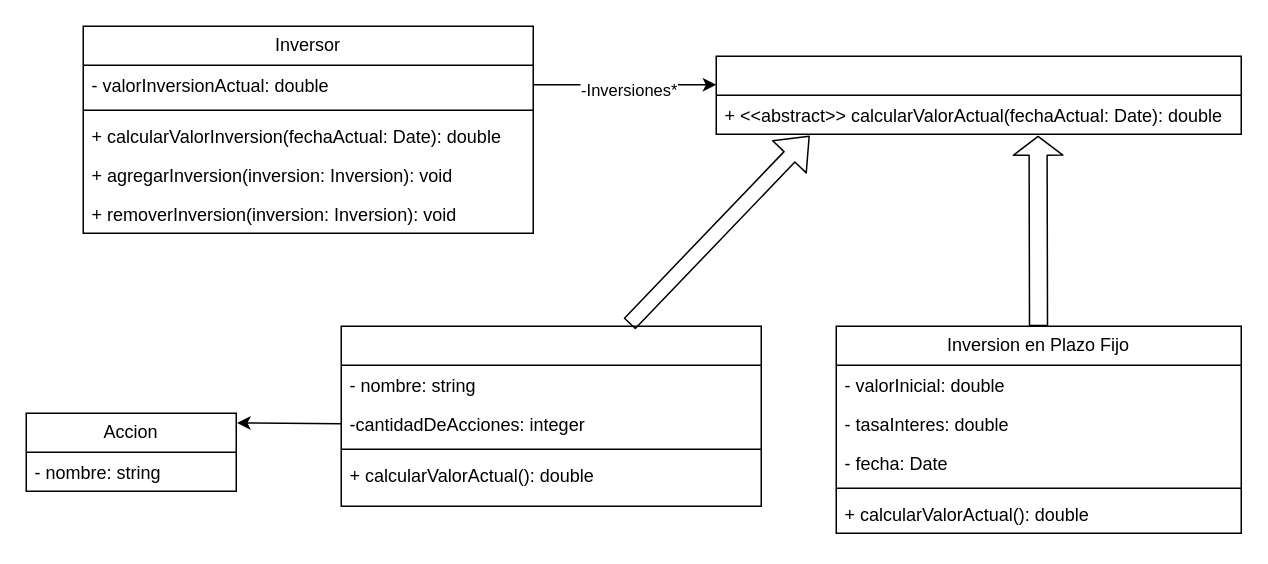
This 1268x564 diagram has some shape labels left out. The box of each missing label's shape, as (x1, y1, x2, y2) in pixels:
Inversion <<interface>>: (715, 55, 1241, 134)
Inversion en Acciones: (340, 325, 761, 506)
